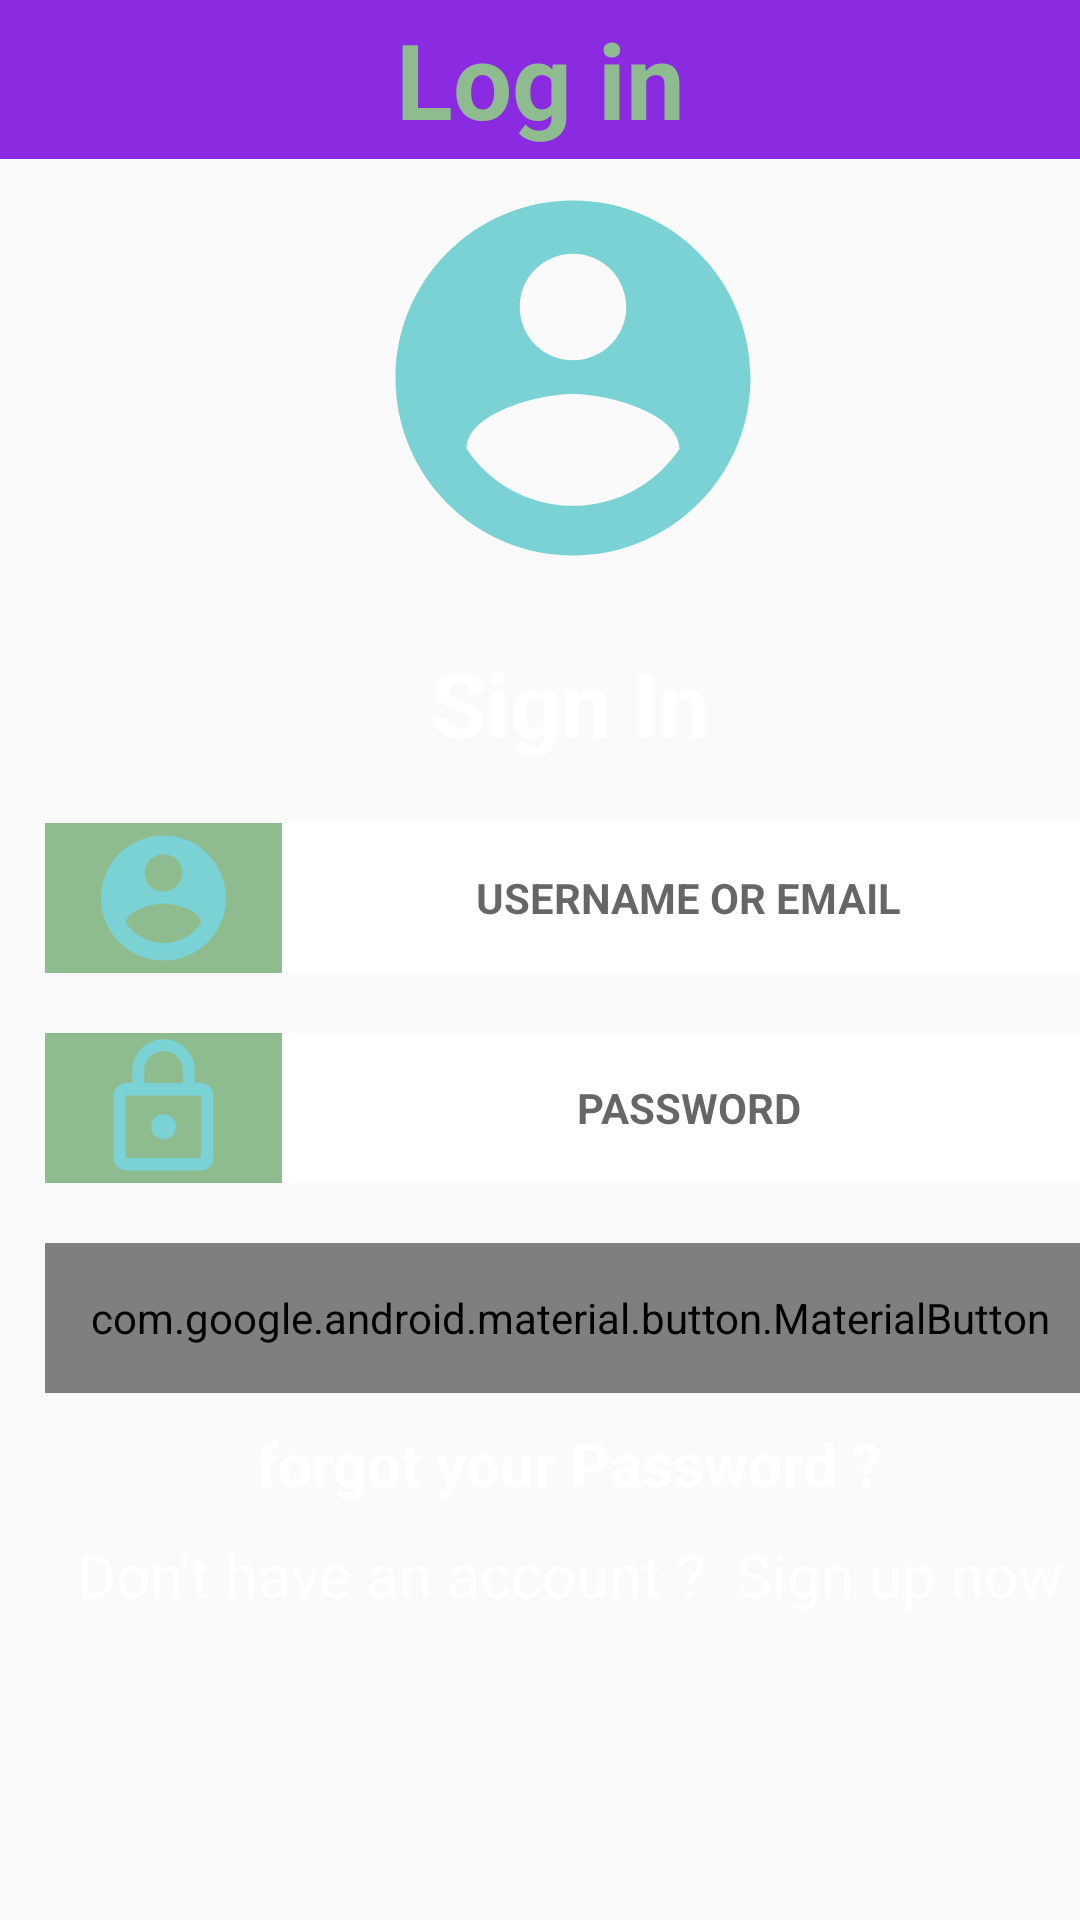

Point at icon controls on the screen. Image size 1080px x 1920px, points as point (x, y).
lock: point (163, 1108)
